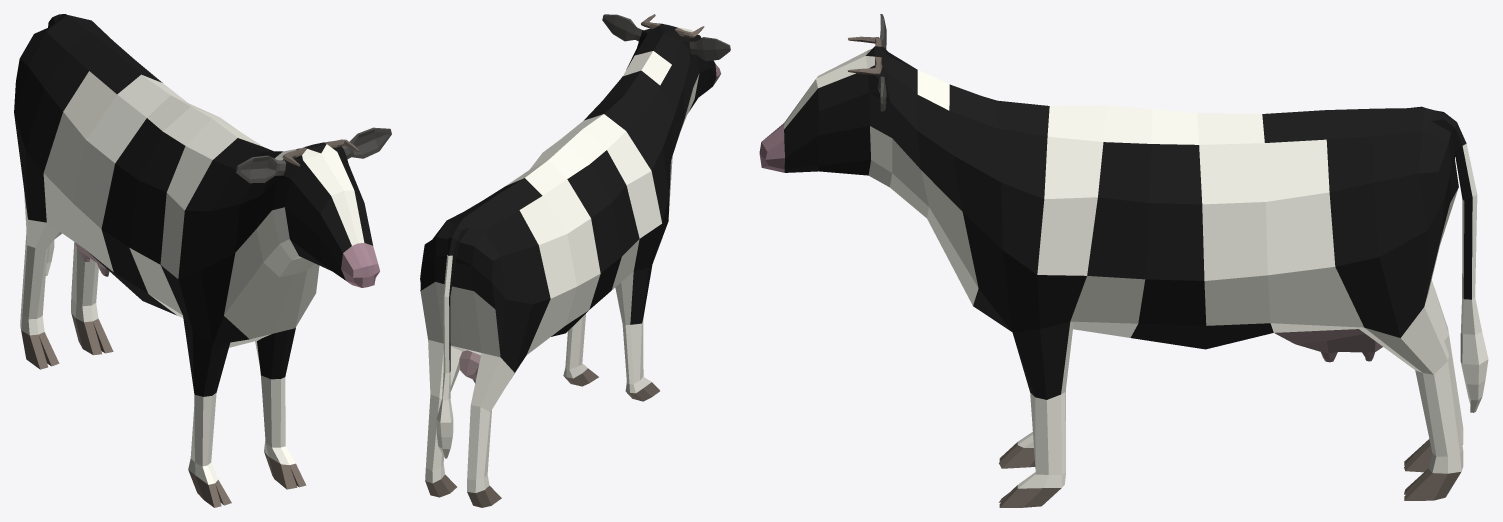
File: 13cowFinal.fbx
3 views of the same model, side by side, from view 1: azimuth 30°, elevation 25°; view 2: azimuth 150°, elevation 25°; view 3: azimuth 270°, elevation 25° (orthographic). The views are drawn at different scales.
Visible parts, largest first — view 1: 13cowFinal; view 2: 13cowFinal; view 3: 13cowFinal.
Boxes of the visible parts, left/top/right/bottom form: 13cowFinal: left=14, top=14, right=391, bottom=507; 13cowFinal: left=420, top=14, right=730, bottom=507; 13cowFinal: left=759, top=14, right=1488, bottom=507.
Size of the model in its own units: 68.81 by 166 by 254.
